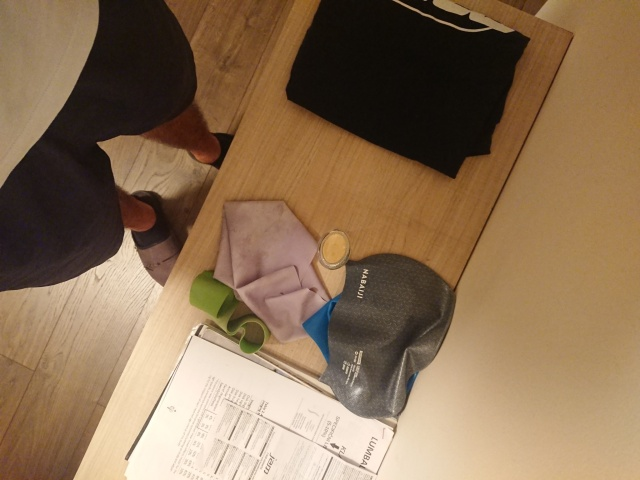Kotanyi Garlic Granules 70g: (315, 226, 353, 272)
